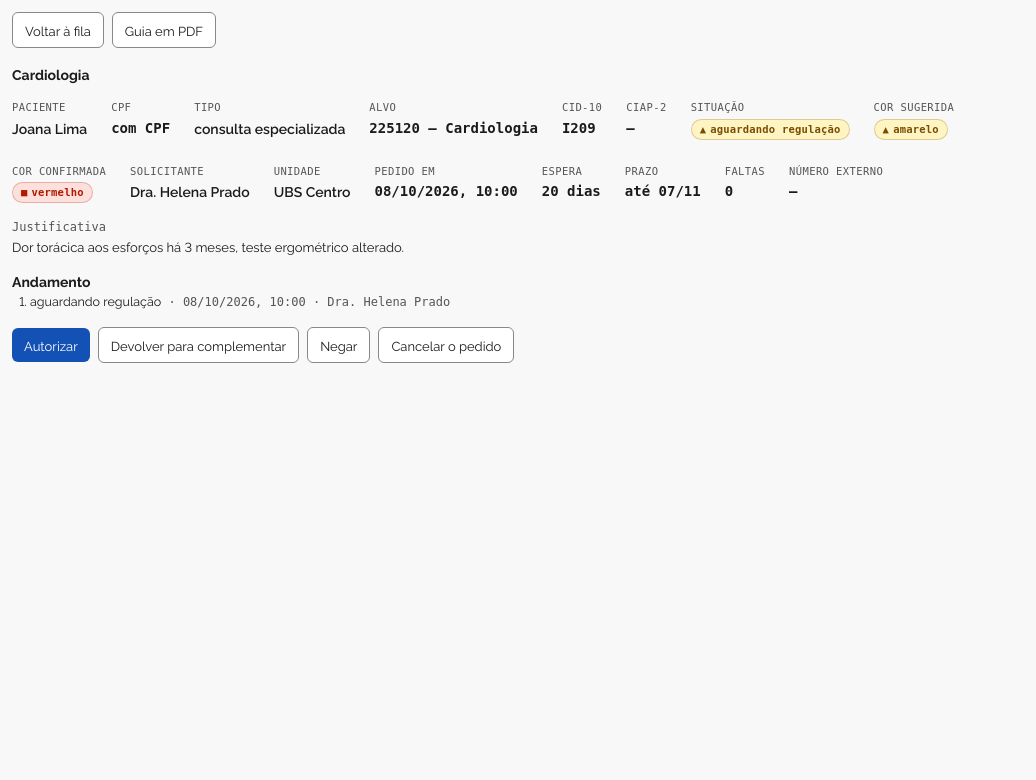
Scenario: RequestDetail › autorizar com cor confirmada diferente da sugerida: voltar à sugerida difere da efetiva e pede motivo
This screenshot has width=1036, height=780.
Click the button "Autorizar" at (51, 345), box x1=12 y1=328 x2=90 y2=362
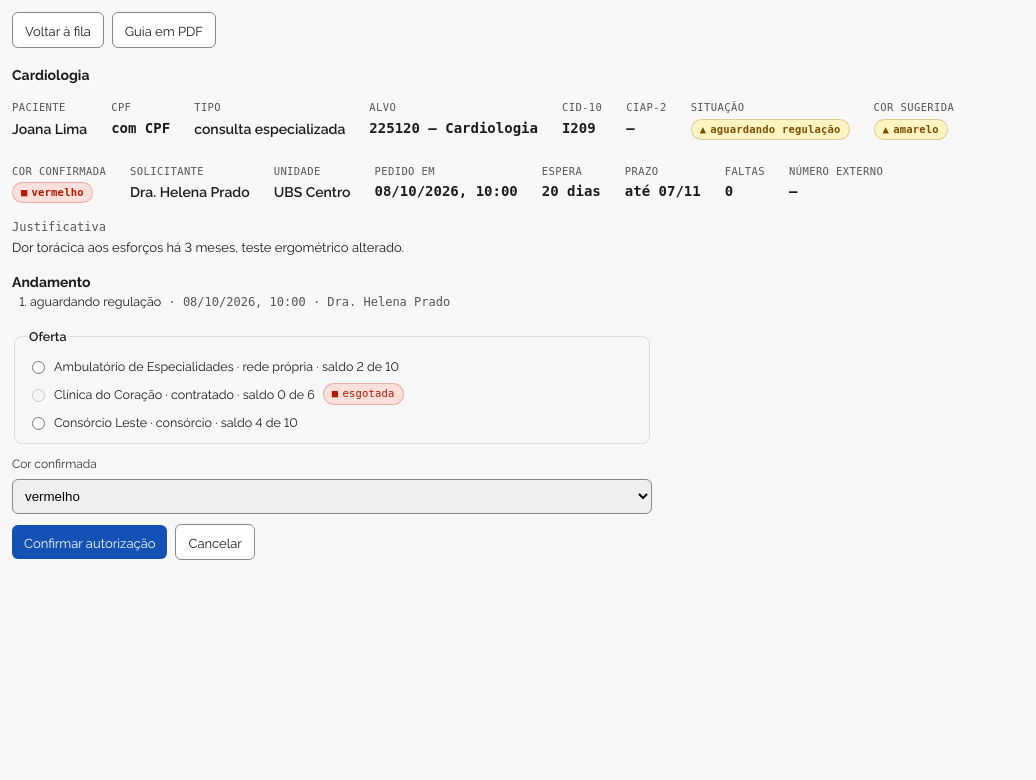
expect the field labelled "Motivo da mudança de cor" is not shown: met
expect the dropdown labelled "Cor confirmada" shows "vermelho": met, box x1=12 y1=479 x2=652 y2=514
Click the radio button labelled "Consórcio Leste · consórcio · saldo 4 de 10" at (38, 423), box x1=32 y1=417 x2=45 y2=430
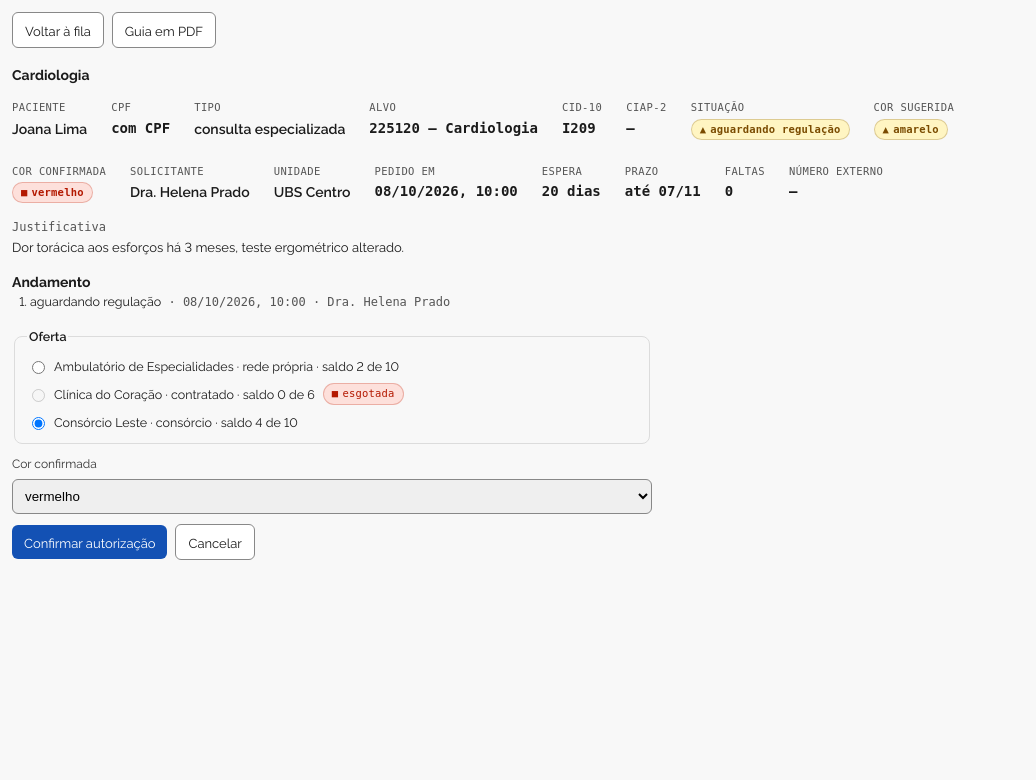
Select "amarelo" in the dropdown labelled "Cor confirmada" at (332, 497), box x1=12 y1=479 x2=652 y2=514
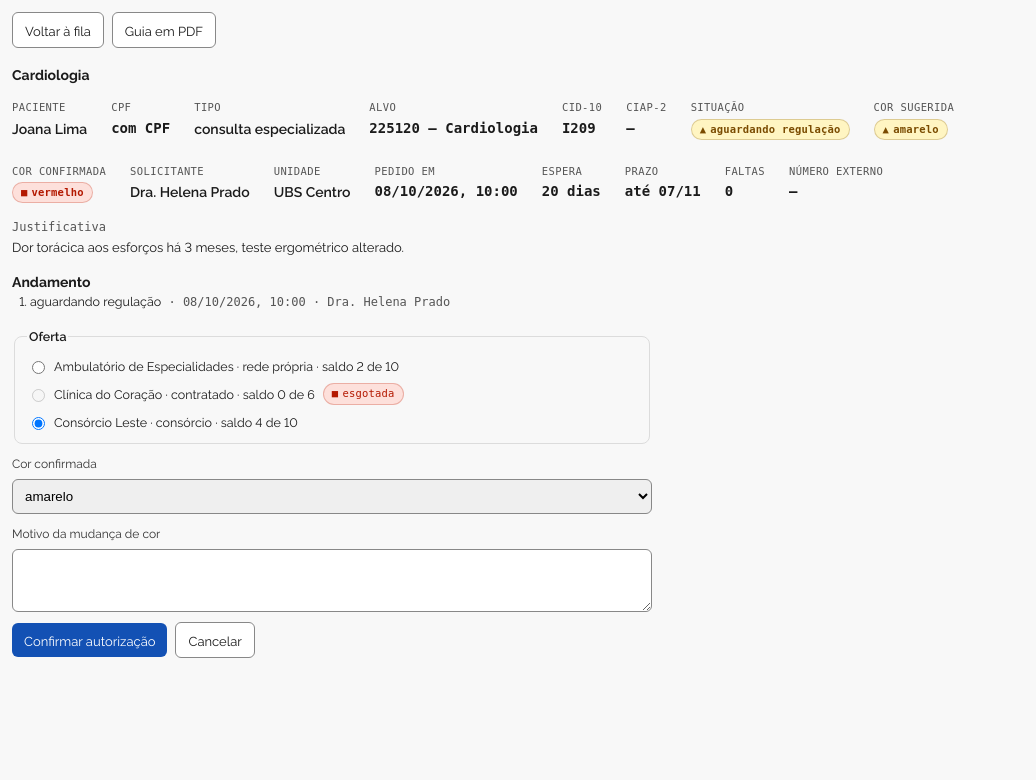
expect the text box labelled "Motivo da mudança de cor" is shown: met, box x1=12 y1=550 x2=652 y2=612
Click the button "Confirmar autorização" at (90, 640), box x1=12 y1=624 x2=168 y2=658
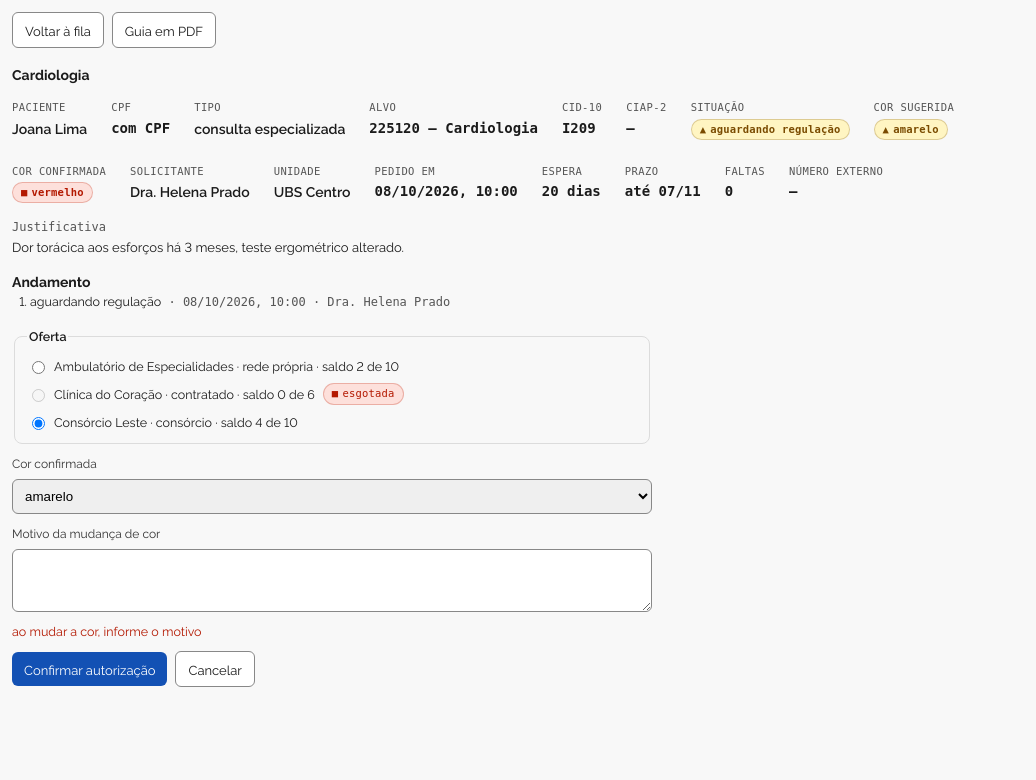
expect the message reads "ao mudar a cor, informe o motivo": met, box x1=12 y1=622 x2=202 y2=640
